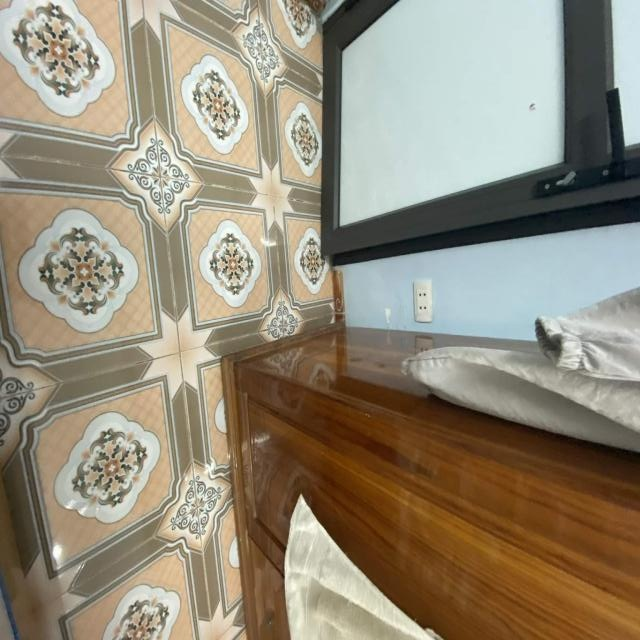outlet: (413, 280, 433, 323)
